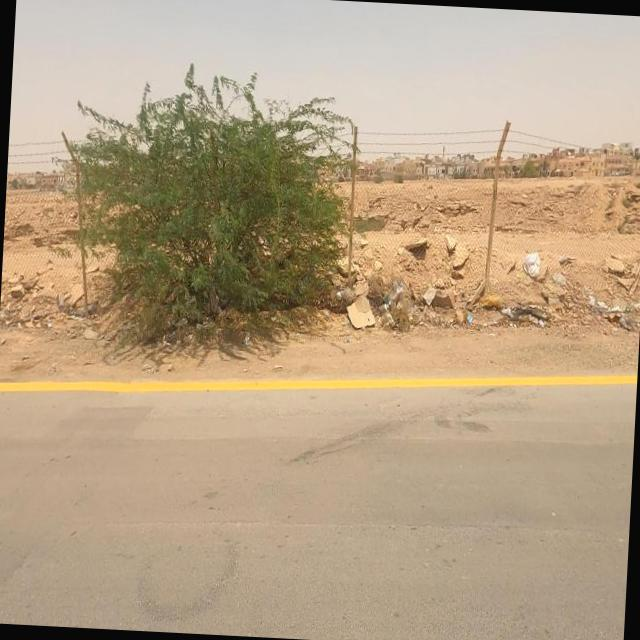debris: (332, 242, 484, 368), (424, 250, 544, 374), (484, 214, 584, 314), (488, 276, 584, 364), (554, 257, 640, 354)
